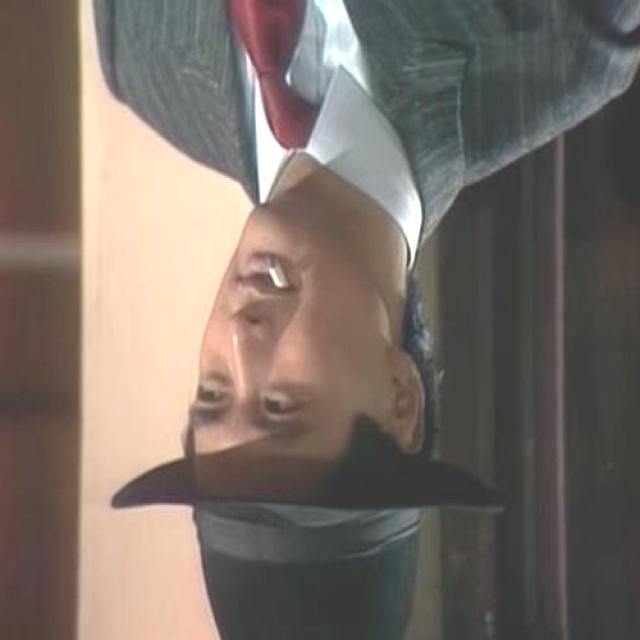cigarette: (266, 256, 287, 292)
